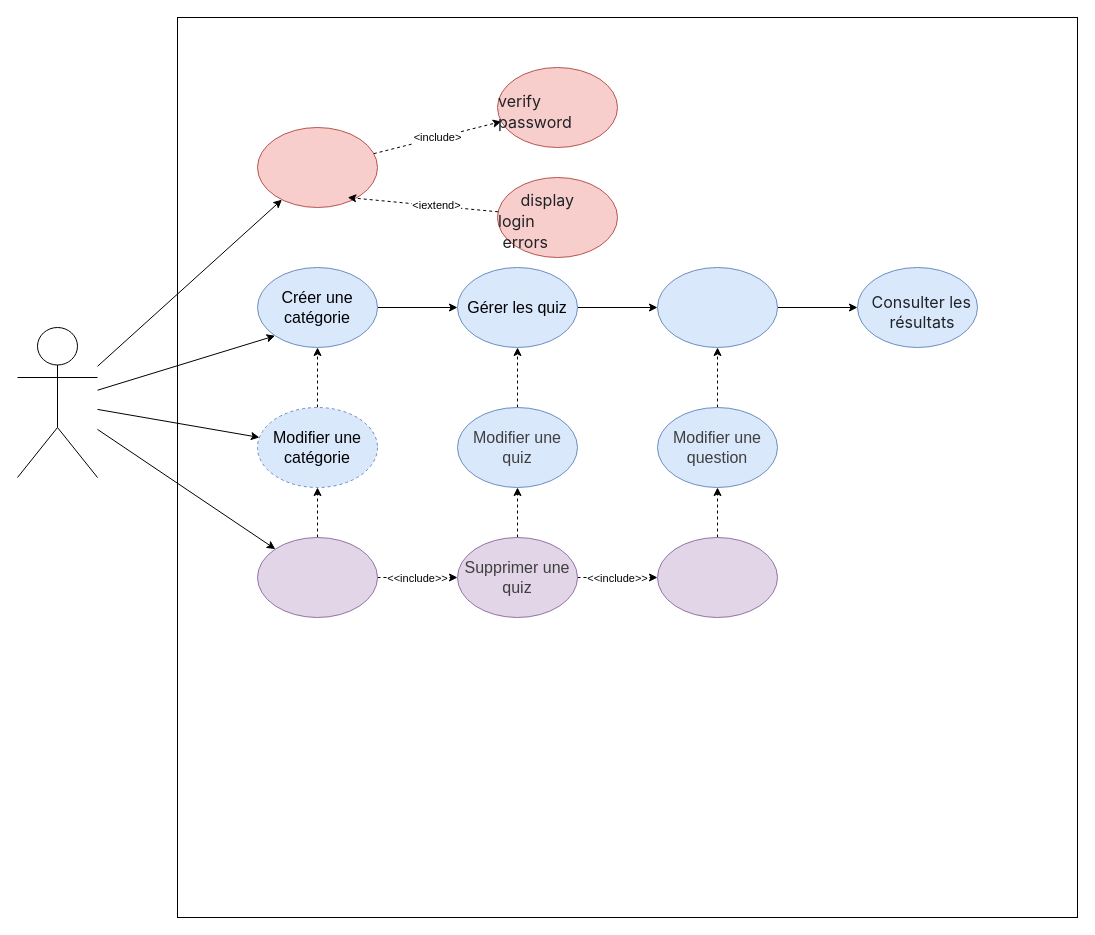
This 1095x935 diagram has some shape labels left out. The shapes that lost their labels are listed below. From the top down, each one's centre as x and y in pixels, then its label:
At [317,167]: "Authentification".
At [717,307]: "Gérer les questions".
At [57,402]: "enseignant".
At [317,577]: "Supprimer une catégorie".
At [717,577]: "Supprimer une question".
